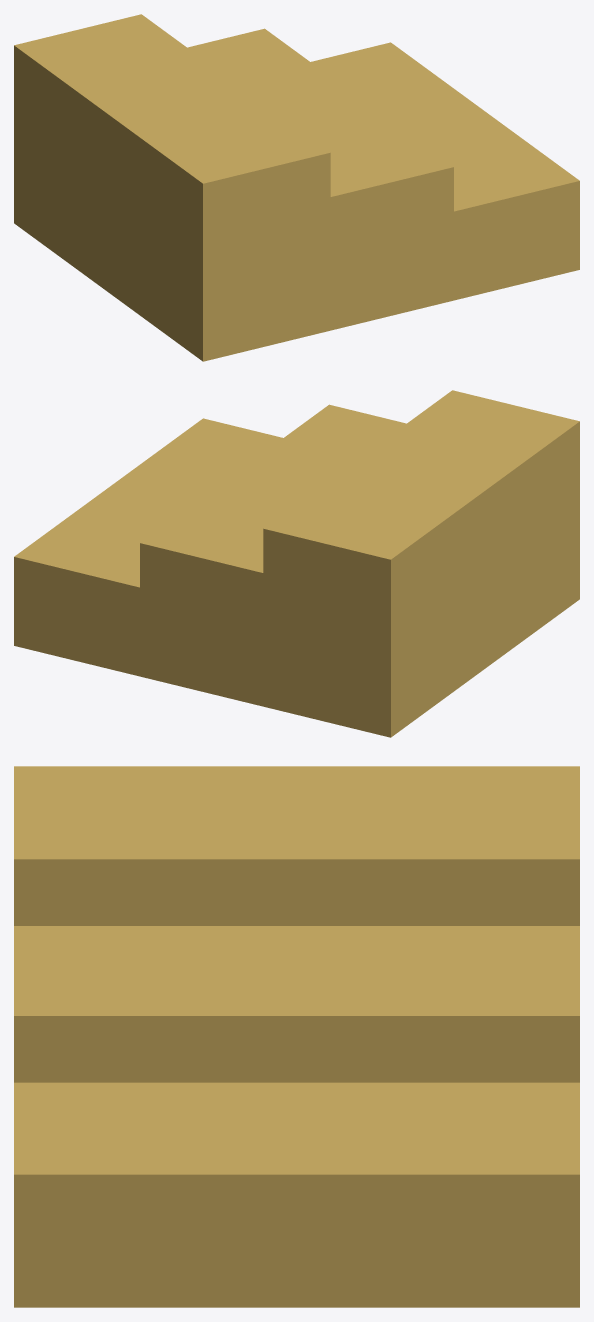
Rendered from Stairs.fbx.
3 views of the same model, one above another, from view 1: azimuth 30°, elevation 25°; view 2: azimuth 150°, elevation 25°; view 3: azimuth 270°, elevation 25° (orthographic). The views are drawn at different scales.
Visible parts, largest first — view 1: 立方体.002, 立方体.001, 立方体; view 2: 立方体.002, 立方体.001, 立方体; view 3: 立方体, 立方体.002, 立方体.001.
Boxes of the visible parts, left/top/right/bottom form: 立方体.002: left=14, top=14, right=330, bottom=361; 立方体.001: left=187, top=28, right=453, bottom=331; 立方体: left=311, top=42, right=579, bottom=300; 立方体.002: left=263, top=390, right=579, bottom=737; 立方体.001: left=140, top=404, right=406, bottom=707; 立方体: left=14, top=418, right=282, bottom=676; 立方体: left=14, top=1082, right=579, bottom=1307; 立方体.002: left=14, top=766, right=579, bottom=925; 立方体.001: left=14, top=926, right=579, bottom=1082.
Bounding box in the file's own units: 177 × 80 × 154.
